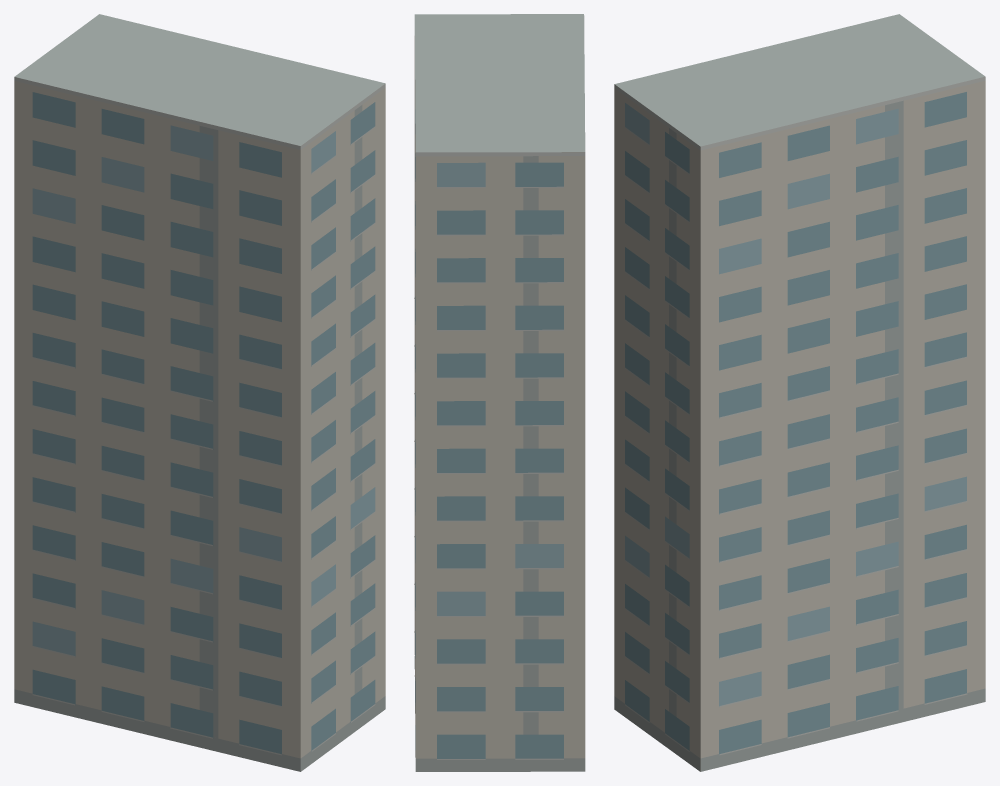
Rendered from residential-64a5dee6-0340-4197-9ac6-a9643fd8e3fc.glb.
3 renders of one model, left to right at view 1: azimuth 30°, elevation 25°; view 2: azimuth 150°, elevation 25°; view 3: azimuth 270°, elevation 25°, orthographic.
Parts seen in each view (by area): view 1: residential-64a5dee6-0340-4197-9ac6-a9643fd8e3fc.tmp; view 2: residential-64a5dee6-0340-4197-9ac6-a9643fd8e3fc.tmp; view 3: residential-64a5dee6-0340-4197-9ac6-a9643fd8e3fc.tmp.
Part boxes in pixels (x1,y1,x2,y2): residential-64a5dee6-0340-4197-9ac6-a9643fd8e3fc.tmp: (14, 14, 385, 771); residential-64a5dee6-0340-4197-9ac6-a9643fd8e3fc.tmp: (414, 14, 585, 771); residential-64a5dee6-0340-4197-9ac6-a9643fd8e3fc.tmp: (614, 14, 985, 771).
Size of the model in its own units: 17.29 by 38 by 20.45.
